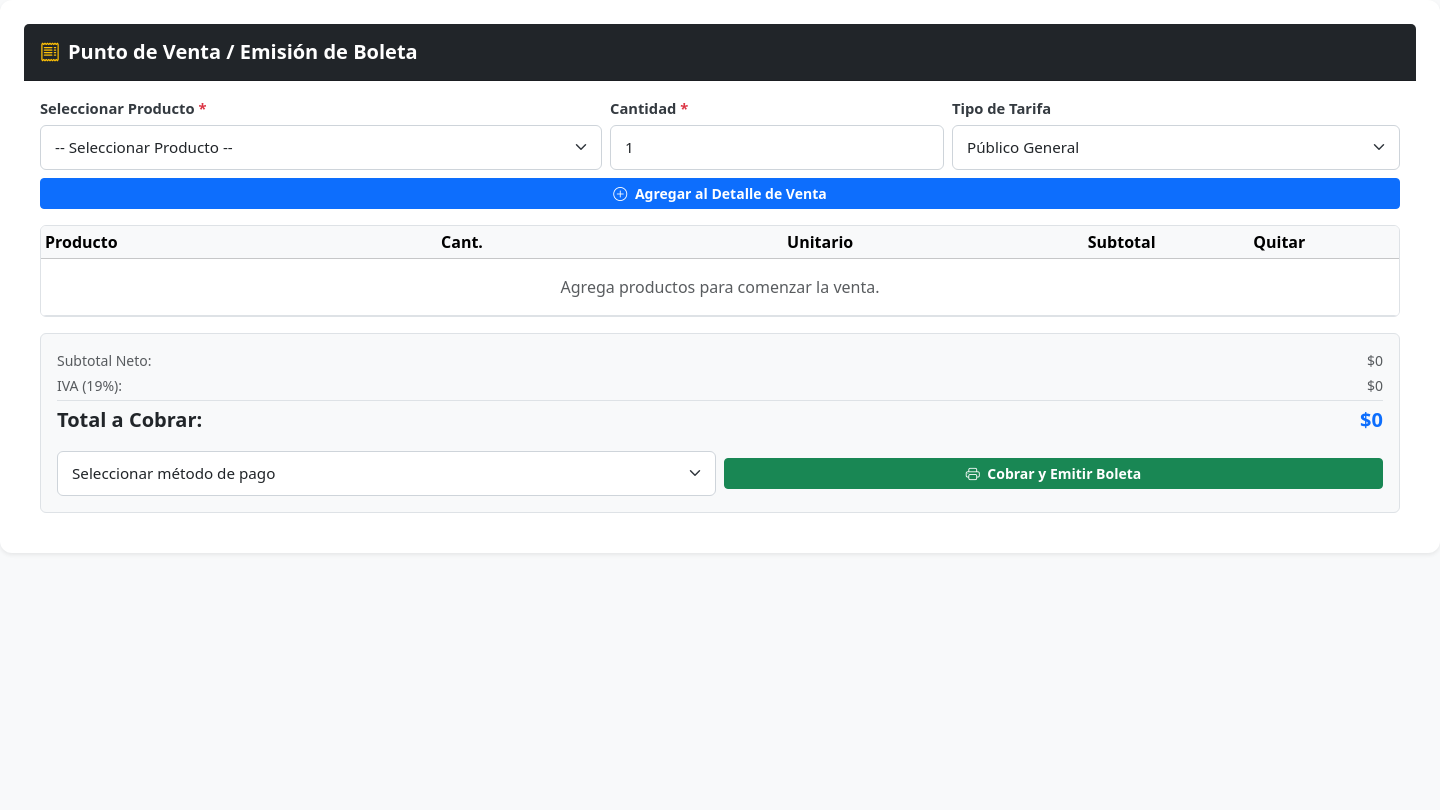
Test: PuntoVenta › no permite agregar más unidades del stock disponible
Select "Taladro Eléctrico - Stock: 2" in the dropdown labelled "Seleccionar Producto *" at (321, 148), box [40, 125, 602, 170]
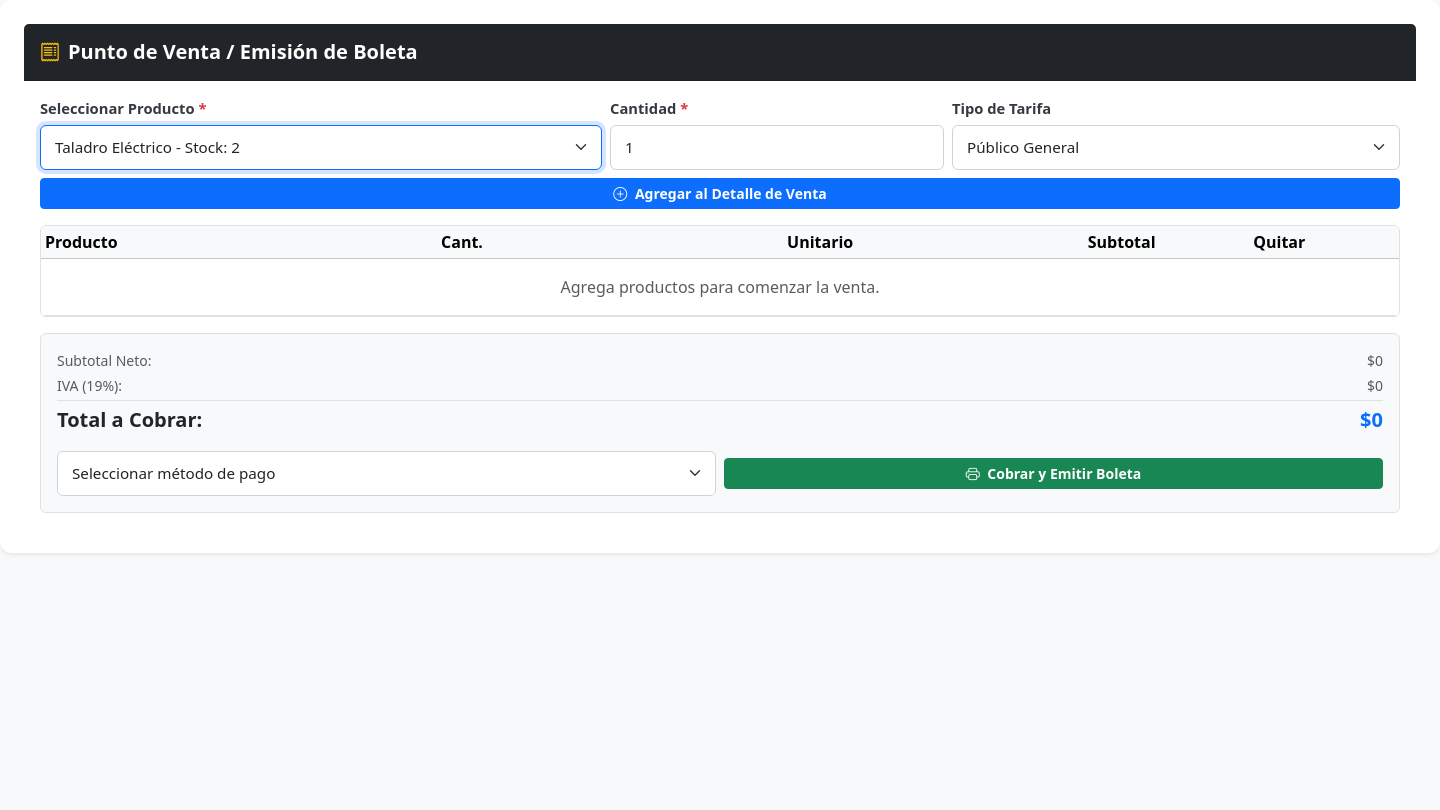
Replace the text in the number field labelled "Cantidad *" with "3" at (777, 148), box [610, 125, 944, 170]
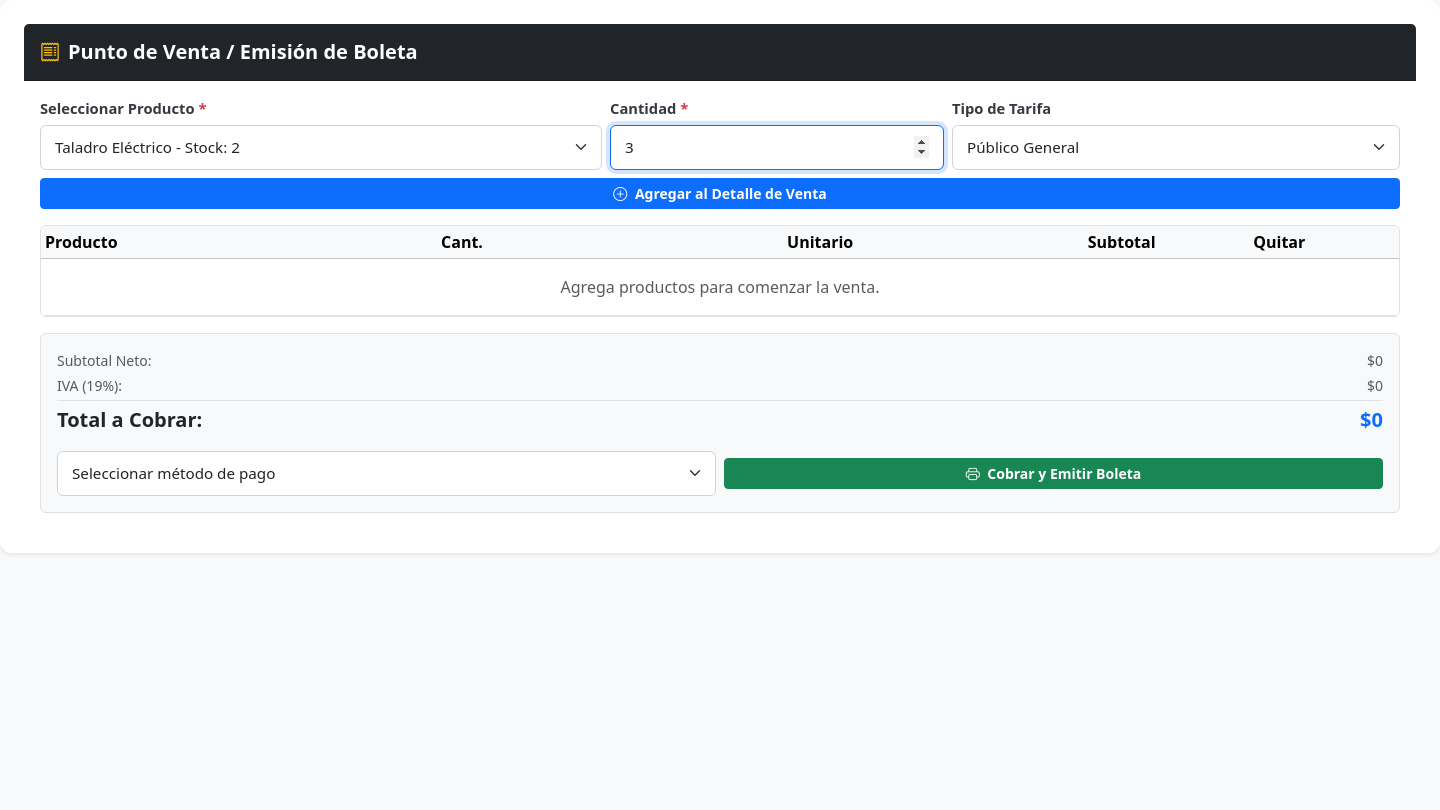
Click the button "Agregar al Detalle de Venta".
click(720, 193)  # box [40, 178, 1400, 209]
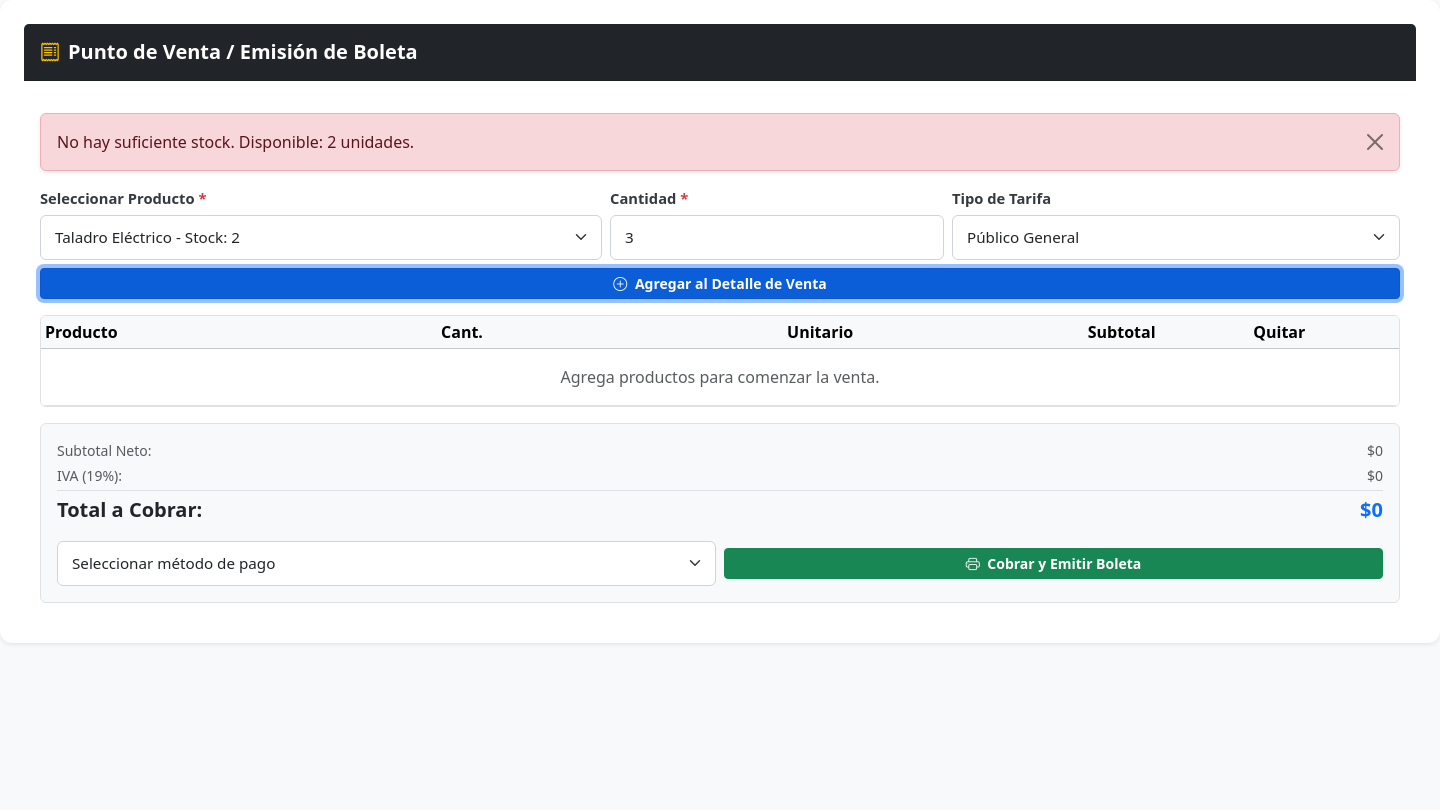
Expected: the text "Agrega productos para comenzar la venta." is shown, [41, 348, 1399, 405]
Now the text "No hay suficiente stock. Disponible: 2 unidades." is shown, box [57, 131, 414, 153]
